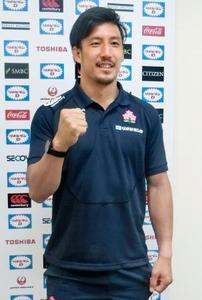face: (71, 21, 123, 84)
hand: (53, 108, 88, 151), (148, 258, 174, 294)
